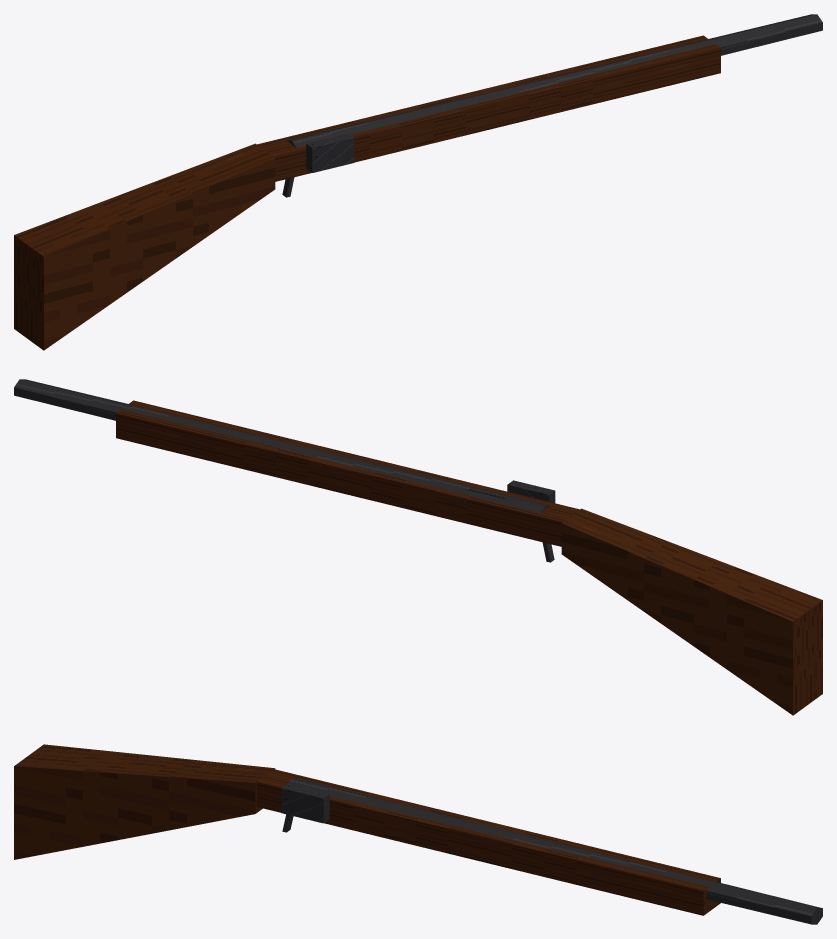
Rendered from mosquete.glb.
3 views of the same model, one above another, from view 1: azimuth 30°, elevation 25°; view 2: azimuth 150°, elevation 25°; view 3: azimuth 330°, elevation 25° (orthographic).
Parts seen in each view (by area): view 1: culata, caja, canon, llave; view 2: culata, caja, canon, llave; view 3: culata, caja, canon, llave.
Part boxes in pixels (box(x1,y1,x2,y2)): culata: box(14, 143, 275, 350); caja: box(257, 35, 720, 181); canon: box(287, 14, 822, 147); llave: box(306, 133, 354, 172); culata: box(561, 508, 822, 715); caja: box(116, 400, 579, 546); canon: box(14, 379, 549, 512); llave: box(507, 480, 555, 503); culata: box(14, 744, 275, 859); caja: box(256, 769, 720, 915); canon: box(288, 778, 822, 924); llave: box(281, 784, 329, 823).
Bounding box in the file's own units: 1.5 × 0.25 × 0.1.
Materials: 1 (1 with a texture image).
